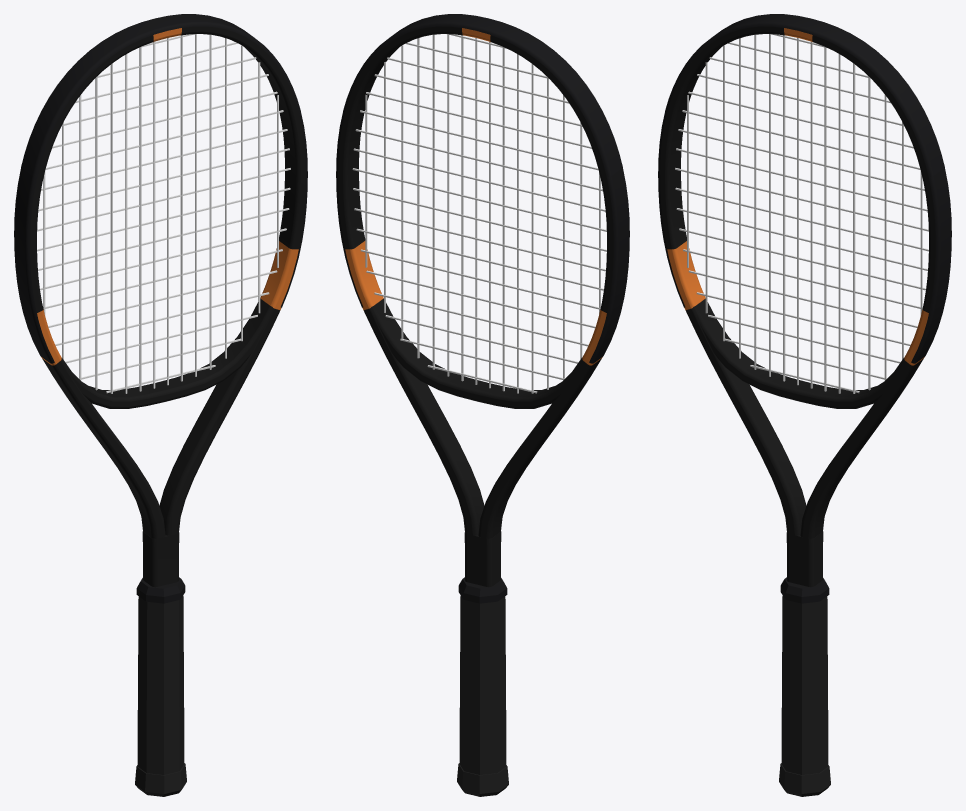
The model's file is prince-tour-100-290g.glb.
The picture shows the model from 3 angles, left to right: view 1: azimuth 30°, elevation 25°; view 2: azimuth 150°, elevation 25°; view 3: azimuth 330°, elevation 25°; orthographic projection.
Visible parts, largest first — view 1: frame, strings_mains, strings_crosses, grip, bumper, grommets, butt_cap, collar; view 2: frame, strings_mains, strings_crosses, grip, bumper, grommets, butt_cap, collar; view 3: frame, strings_mains, strings_crosses, grip, bumper, grommets, butt_cap, collar.
Part boxes in pixels (x1=…): frame: x1=30, y1=26, x2=305, y2=587; strings_mains: x1=43, y1=34, x2=278, y2=393; strings_crosses: x1=37, y1=34, x2=290, y2=393; grip: x1=137, y1=595, x2=184, y2=774; bumper: x1=21, y1=14, x2=300, y2=176; grommets: x1=14, y1=111, x2=307, y2=363; butt_cap: x1=135, y1=763, x2=186, y2=796; collar: x1=136, y1=577, x2=185, y2=603; frame: x1=338, y1=26, x2=613, y2=587; strings_mains: x1=365, y1=34, x2=600, y2=393; strings_crosses: x1=352, y1=34, x2=606, y2=393; grip: x1=459, y1=595, x2=506, y2=774; bumper: x1=343, y1=14, x2=622, y2=176; grommets: x1=336, y1=111, x2=629, y2=363; butt_cap: x1=457, y1=763, x2=508, y2=796; collar: x1=458, y1=577, x2=507, y2=603; frame: x1=660, y1=26, x2=935, y2=587; strings_mains: x1=687, y1=34, x2=922, y2=393; strings_crosses: x1=675, y1=34, x2=928, y2=393; grip: x1=781, y1=595, x2=828, y2=774; bumper: x1=665, y1=14, x2=944, y2=176; grommets: x1=658, y1=111, x2=951, y2=363; butt_cap: x1=779, y1=763, x2=830, y2=796; collar: x1=780, y1=577, x2=829, y2=603.
Size of the model in its own units: 0.2649 by 0.6861 by 0.0396.
